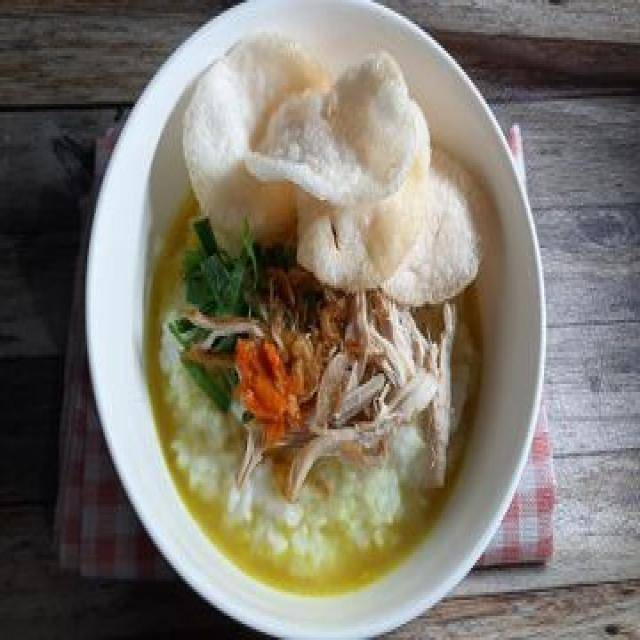bubur ayam: (145, 107, 479, 591)
mangkuk: (83, 0, 545, 629)
